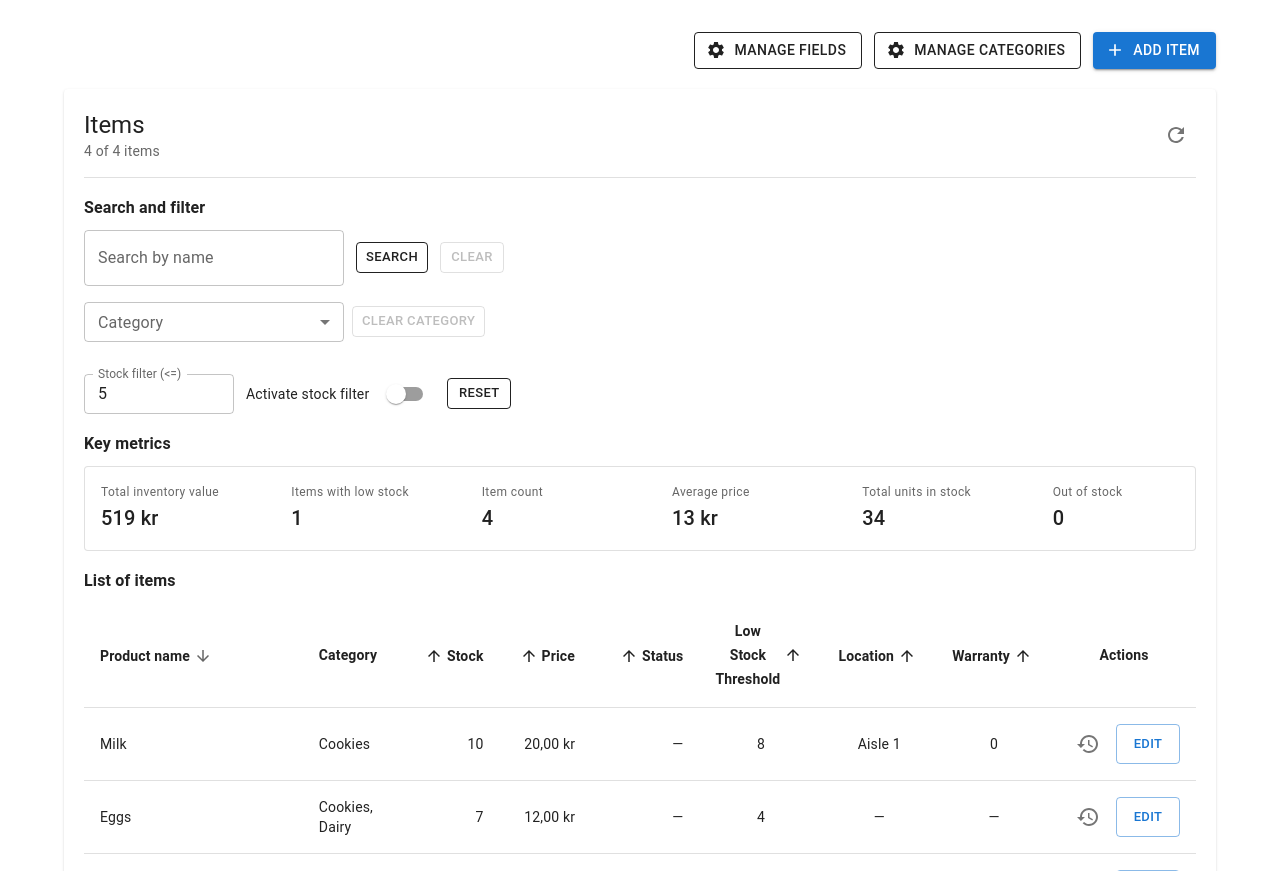
Test case: ItemPage › add item with low stock threshold
This screenshot has width=1280, height=871.
Expected: the text "Milk" is shown, [100, 736, 127, 752]
Click the button "Add item".
click(1155, 50)  # box [1093, 32, 1216, 68]
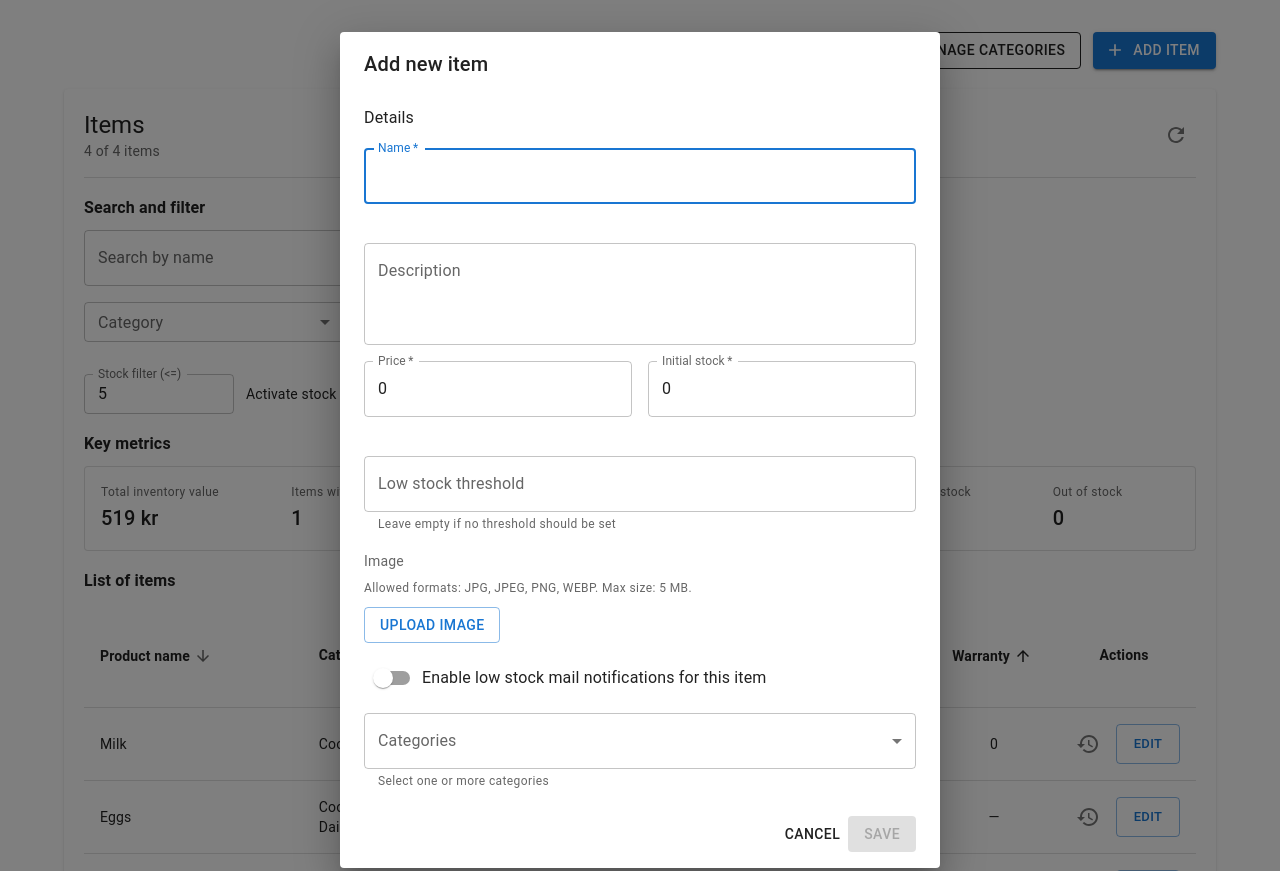
Type "Keyboard" into the field labelled "Name *".
click(640, 176); type("Keyboard")  # box [364, 148, 916, 204]
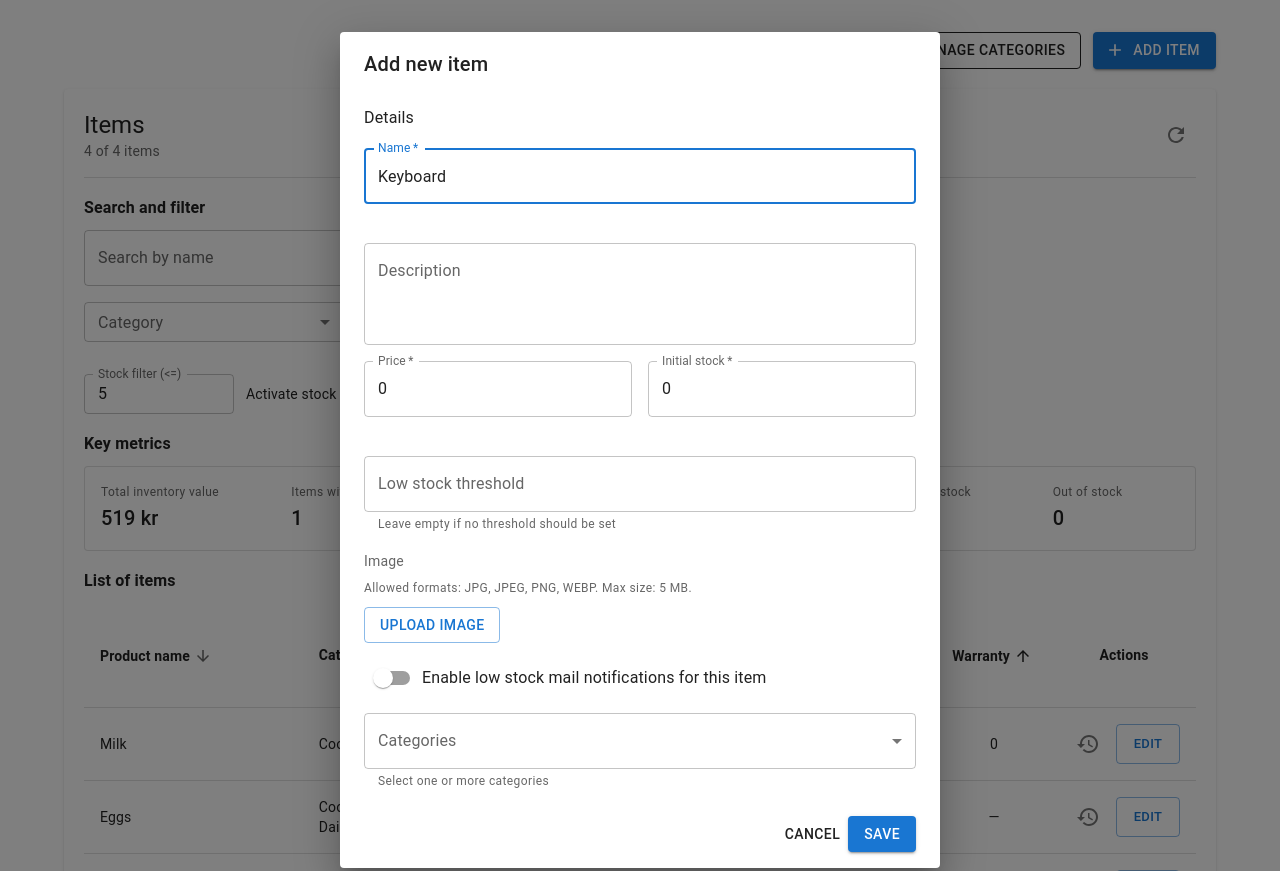
Replace the text in the number field labelled "Price *" with "100" at (498, 389), box [364, 361, 632, 417]
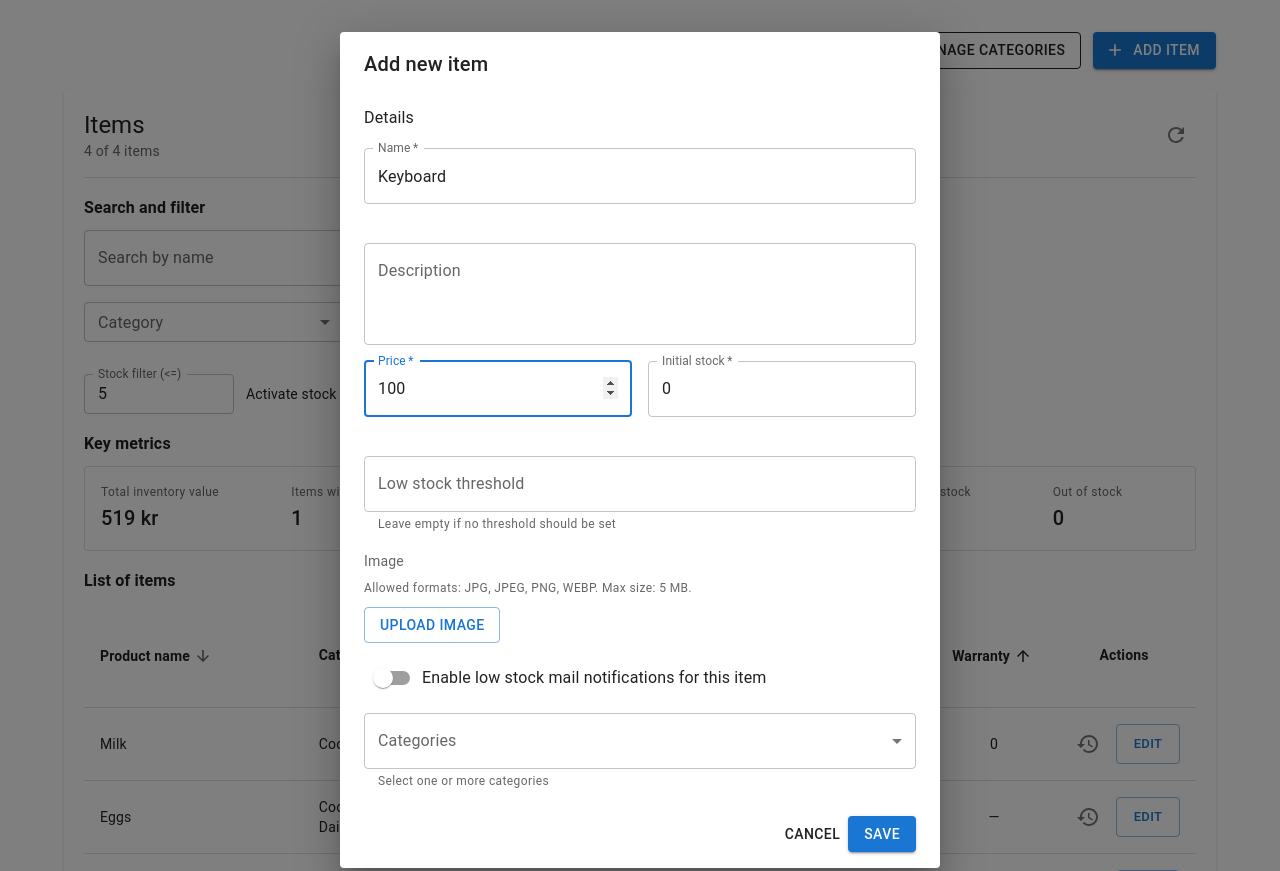
Replace the text in the number field labelled "Initial stock *" with "5" at (782, 389), box [648, 361, 916, 417]
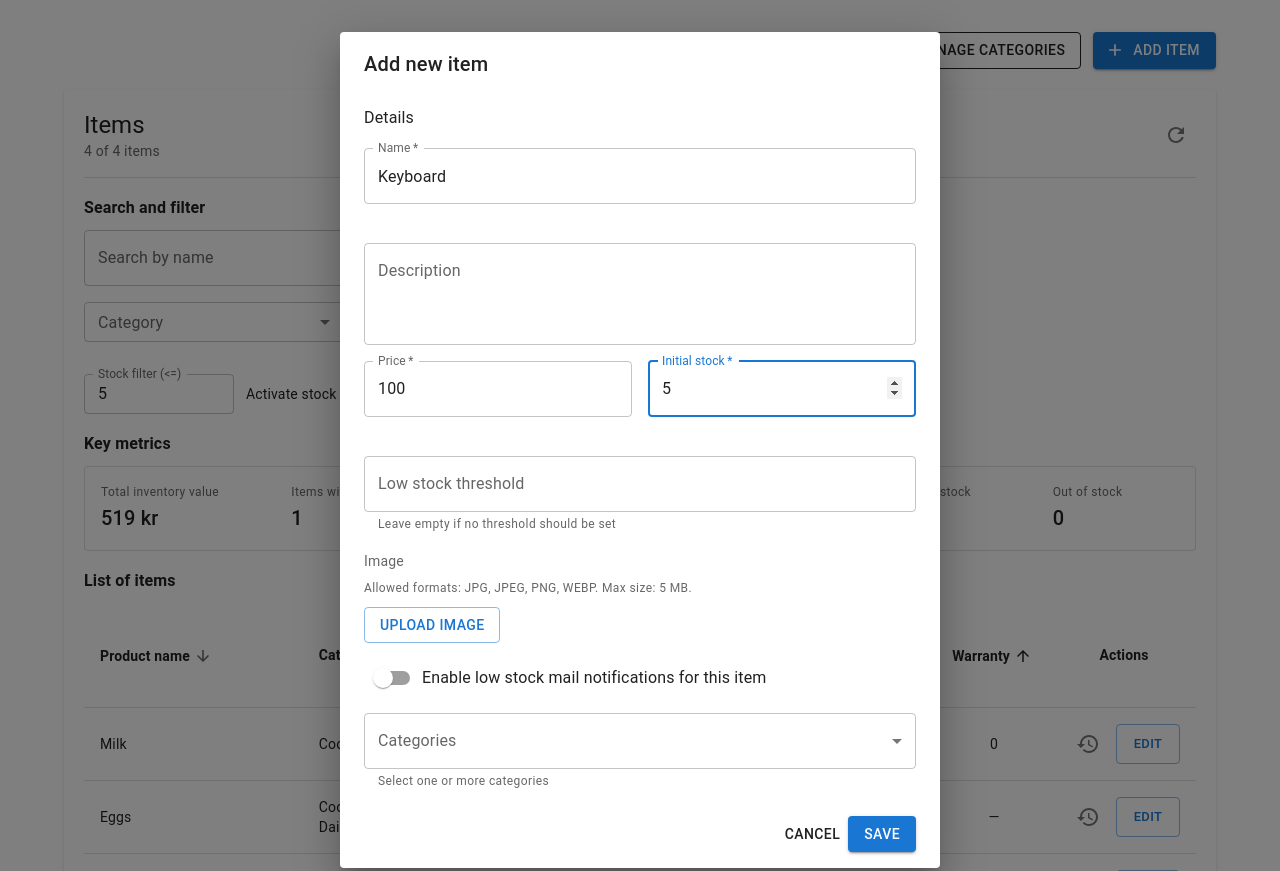
Type "4" into the number field labelled "Low stock threshold".
click(640, 484); type("4")  # box [364, 456, 916, 512]
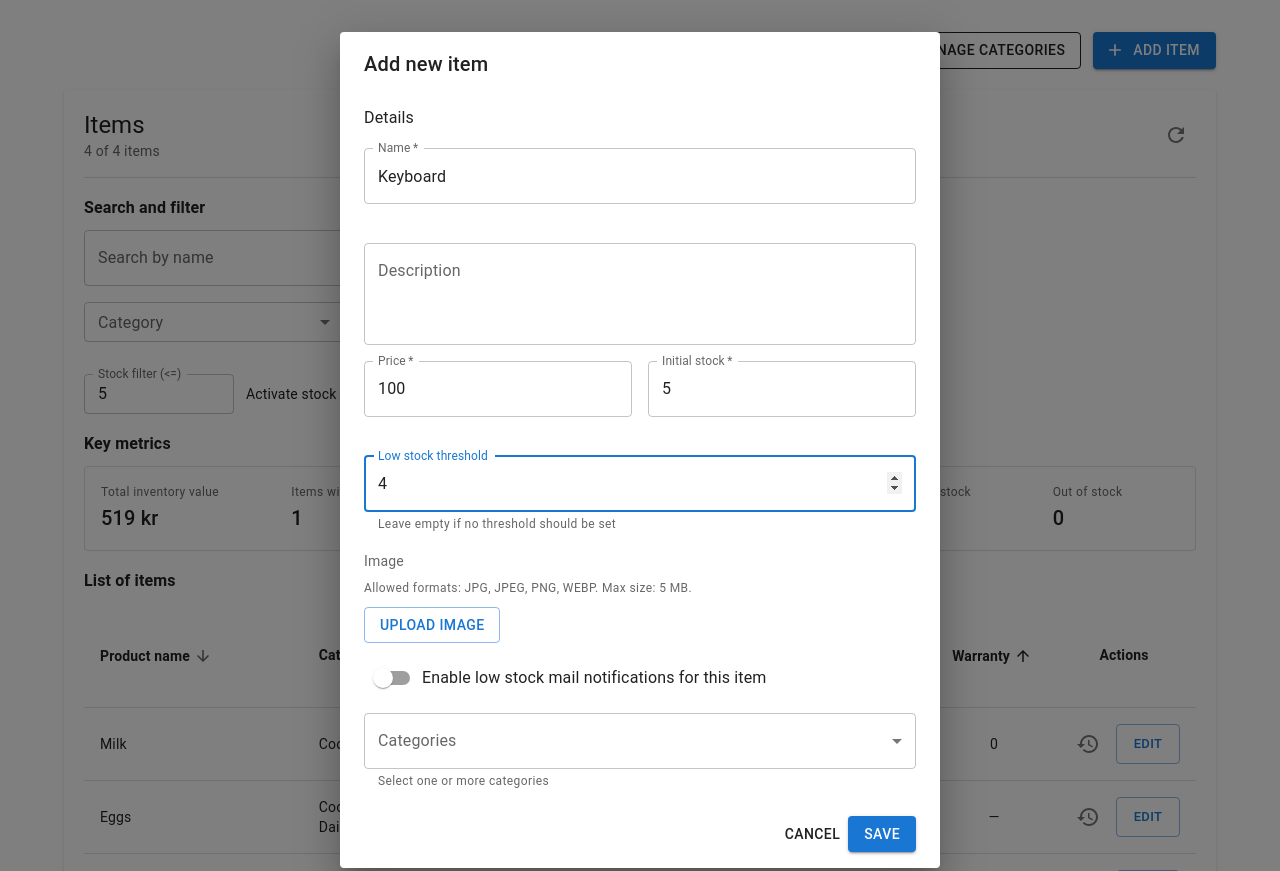
Click the button "Save".
click(882, 834)  # box [848, 816, 916, 852]
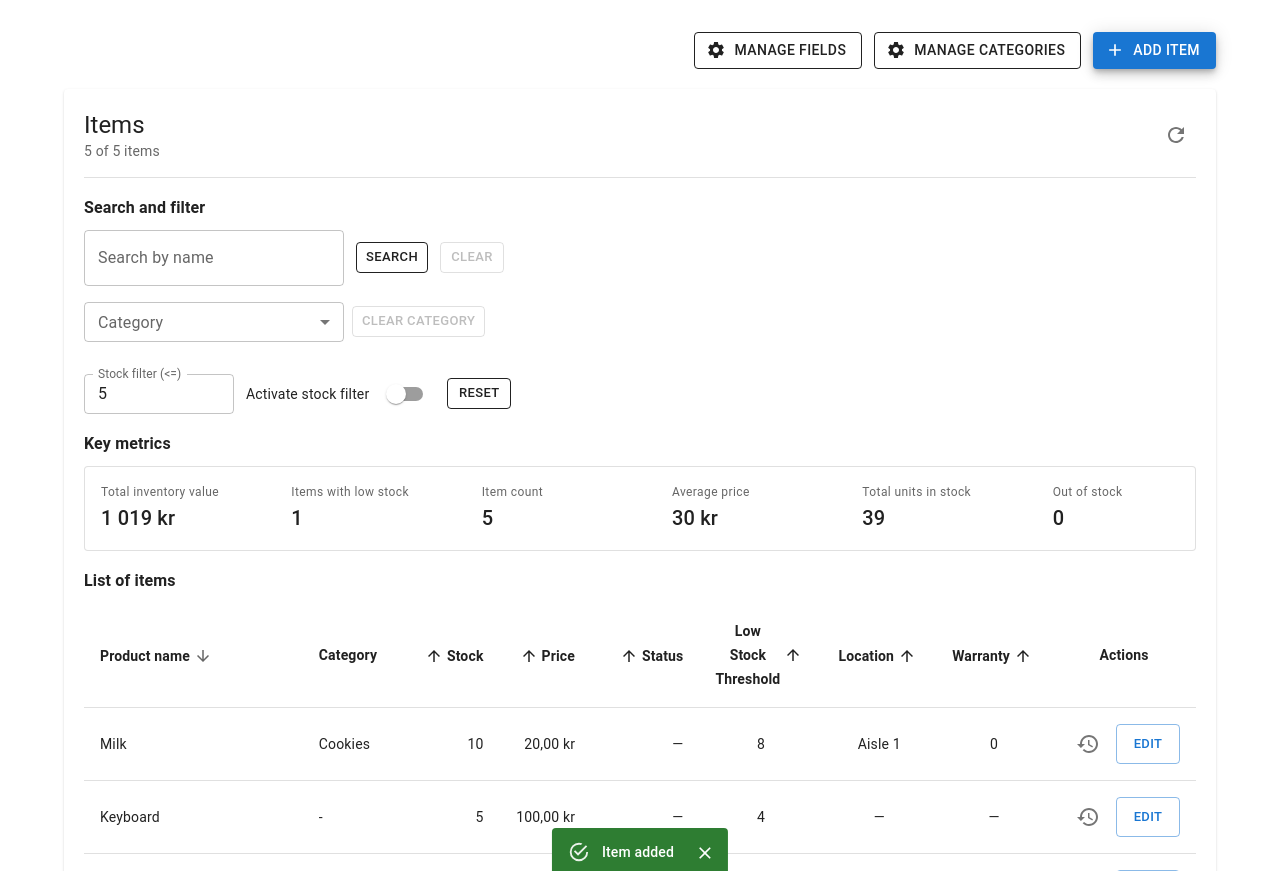
Result: the text "Item added" is shown at [602, 844, 674, 860]
Result: the text "Keyboard" is shown at [100, 809, 160, 825]
